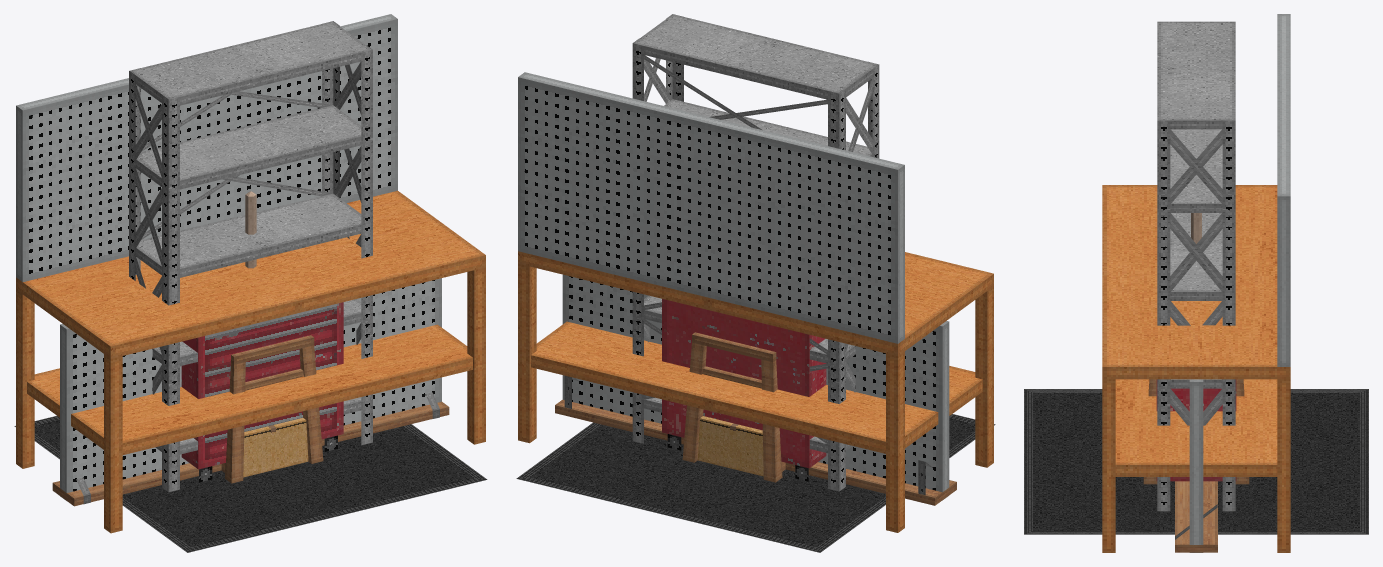
The model's file is pitprops.glb.
The picture shows the model from 3 angles, left to right: view 1: azimuth 30°, elevation 25°; view 2: azimuth 150°, elevation 25°; view 3: azimuth 270°, elevation 25°; orthographic projection.
Parts seen in each view (by area): view 1: bench_tall, shelving_a, bench, mat, tool_rack, tool_chest, stool, shelving_c, shelf, box_b, shelving_b, broom (+1 smaller); view 2: bench_tall, mat, bench, shelving_a, tool_rack, tool_chest, stool, shelf, box_b, shelving_b, shelving_c, stool_low; view 3: bench, mat, shelving_a, bench_tall, shelving_c, tool_rack, shelf, tool_chest, stool.
Part boxes in pixels (x1=…): bench_tall: x1=16, y1=14, x2=472, y2=454; shelving_a: x1=129, y1=21, x2=372, y2=492; bench: x1=16, y1=190, x2=485, y2=533; mat: x1=14, y1=416, x2=487, y2=552; tool_rack: x1=60, y1=278, x2=441, y2=499; tool_chest: x1=181, y1=302, x2=343, y2=482; stool: x1=225, y1=335, x2=323, y2=483; shelving_c: x1=135, y1=62, x2=361, y2=394; shelf: x1=52, y1=392, x2=449, y2=506; box_b: x1=243, y1=418, x2=308, y2=477; shelving_b: x1=141, y1=91, x2=332, y2=239; broom: x1=245, y1=191, x2=256, y2=268; bench_tall: x1=518, y1=72, x2=982, y2=453; mat: x1=516, y1=414, x2=995, y2=552; bench: x1=518, y1=251, x2=993, y2=532; shelving_a: x1=632, y1=14, x2=879, y2=491; tool_rack: x1=562, y1=274, x2=949, y2=499; tool_chest: x1=662, y1=299, x2=826, y2=481; stool: x1=682, y1=332, x2=782, y2=482; shelf: x1=555, y1=375, x2=956, y2=505; box_b: x1=697, y1=416, x2=763, y2=476; shelving_b: x1=644, y1=55, x2=827, y2=444; shelving_c: x1=644, y1=58, x2=872, y2=392; stool_low: x1=702, y1=366, x2=785, y2=471; bench: x1=1102, y1=185, x2=1290, y2=552; mat: x1=1024, y1=389, x2=1368, y2=534; shelving_a: x1=1157, y1=21, x2=1235, y2=511; bench_tall: x1=1115, y1=14, x2=1290, y2=476; shelving_c: x1=1170, y1=129, x2=1222, y2=425; tool_rack: x1=1189, y1=379, x2=1203, y2=552; shelf: x1=1175, y1=481, x2=1217, y2=552; tool_chest: x1=1156, y1=379, x2=1236, y2=481; stool: x1=1143, y1=379, x2=1249, y2=484.
Bounding box in the file's own units: 2 × 2 × 1.6.
Materials: 28 (28 with a texture image).
